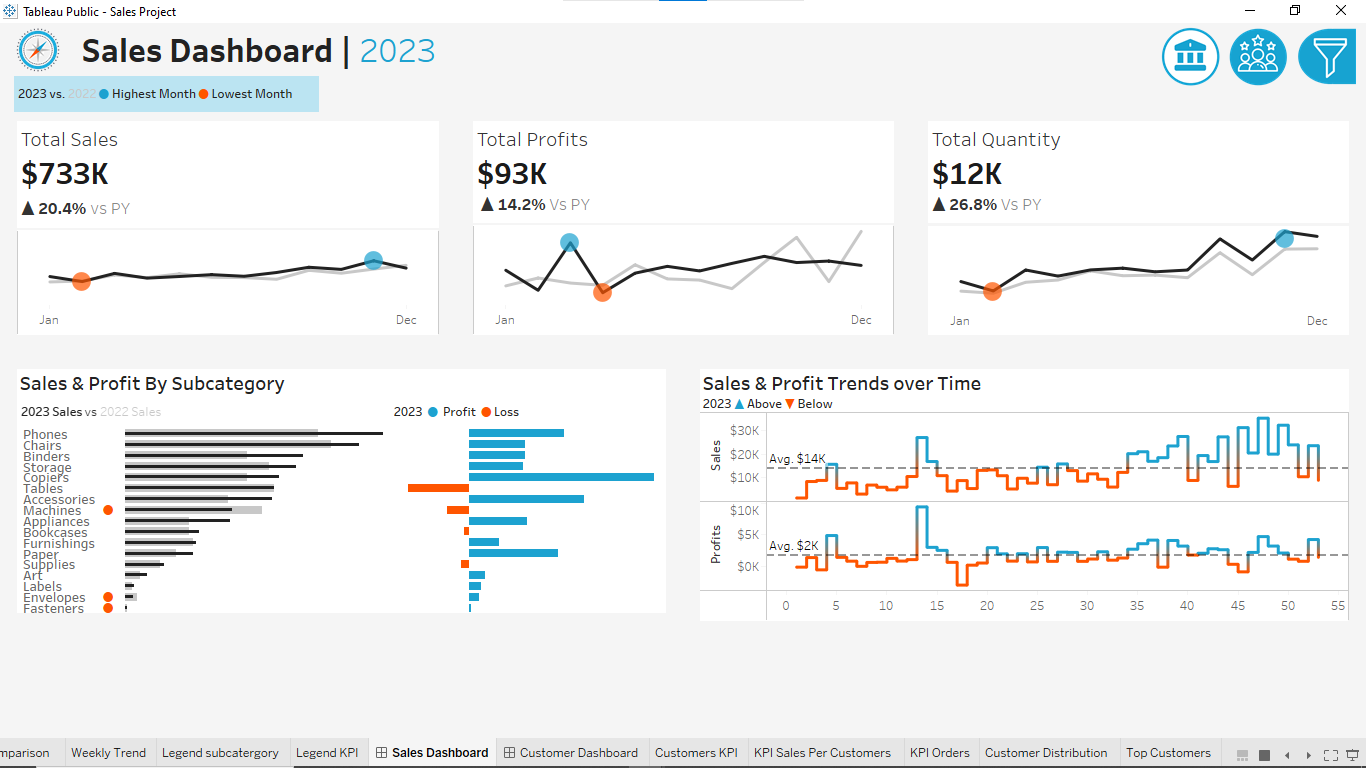

The dashboard page shown, as its layout file describes it:
{"tool":"tableau","page":{"name":"Sales Dashboard","canvas":[1000,1000],"units":"permille","ordinal":1},"visuals":[{"type":"image","param":"Image/Icon - Logo.png","box":[0,0,64.9,83.9]},{"type":"text","box":[64.9,0,642.4,83.9]},{"type":"dashboard-object","box":[847.1,0,51.1,93.4]},{"type":"dashboard-object","box":[898.2,0,52,93.4]},{"type":"dashboard-object","box":[950.1,0,52,93.4]},{"type":"blank","box":[831.3,13.6,161.4,96.2]},{"type":"worksheet","title":"Legend KPI","mark":"Automatic","box":[0,83.9,1000,60.1]},{"type":"text","box":[831.3,109.8,161.4,46.1]},{"type":"worksheet","title":"KPI Sales","mark":"Automatic","rows":["Calculation_406168391398117380"],"cols":["Order Date"],"box":[0,144,333.3,376.6]},{"type":"worksheet","title":"KPI Profits","mark":"Line","rows":["Calculation_406168391415488524"],"cols":["Order Date"],"box":[333.3,144,333.3,376.6]},{"type":"worksheet","title":"KPI Quantity","mark":"Automatic","rows":["Calculation_406168391428407315"],"cols":["Order Date"],"box":[666.7,144,333.3,376.6]},{"type":"parameter","param":"[Parameters].[Parameter 1]","box":[831.3,155.8,161.4,82.7]},{"type":"blank","box":[831.3,238.5,161.4,43.4]},{"type":"text","box":[831.3,281.9,161.4,39.3]},{"type":"filter","title":"KPI Profits","param":"[federated.0g9hs9g1u3s81j14i9sfp0thvgp6].[none:Category:nk]","box":[831.3,321.2,161.4,70.5]},{"type":"filter","title":"KPI Profits","param":"[federated.0g9hs9g1u3s81j14i9sfp0thvgp6].[none:Sub-Category:nk]","box":[831.3,391.6,161.4,70.5]},{"type":"text","box":[831.3,462.1,161.4,39.3]},{"type":"filter","title":"KPI Profits","param":"[federated.0g9hs9g1u3s81j14i9sfp0thvgp6].[none:Region:nk]","box":[831.3,501.4,161.4,70.5]},{"type":"text","box":[14.7,547.5,471,41.1]},{"type":"text","box":[515.1,547.5,470.1,41.1]},{"type":"filter","title":"KPI Profits","param":"[federated.0g9hs9g1u3s81j14i9sfp0thvgp6].[none:State:nk]","box":[831.3,571.8,161.4,70.5]},{"type":"worksheet","title":"Legend subcatergory","mark":"Automatic","box":[14.7,588.6,323.8,52.2]},{"type":"text","box":[338.5,588.6,147.2,52.2]},{"type":"text","box":[515.1,588.6,470.1,26.9]},{"type":"worksheet","title":"Weekly Trend","mark":"Automatic","rows":["Calculation_406168460112195584","Calculation_406168391409868809"],"cols":["Order Date"],"box":[515.1,615.5,470.1,330.7]},{"type":"worksheet","title":"Sub Category Comparison ","mark":"Bar","rows":["Sub-Category","Calculation_406168391442026518"],"cols":["CY Sales (copy)_406168460112687105","Calculation_406168460112195584","Calculation_406168391409868809"],"box":[14.7,640.8,471,292.7]},{"type":"filter","title":"KPI Profits","param":"[federated.0g9hs9g1u3s81j14i9sfp0thvgp6].[none:City:nk]","box":[831.3,642.3,161.4,70.5]}]}

Visuals, with their boxes on the dashboard's canvas, which has no fixed pixel size, in thousandths of its width and height (x1, y1, x2, y2). These are canvas units, not pixel positions in the 1366x768 screenshot, which may show the page scaled, cropped or inside an application window:
image: bbox(0, 0, 65, 84)
text: bbox(65, 0, 707, 84)
dashboard-object: bbox(847, 0, 898, 93)
dashboard-object: bbox(898, 0, 950, 93)
dashboard-object: bbox(950, 0, 1002, 93)
blank: bbox(831, 14, 993, 110)
"Legend KPI" worksheet: bbox(0, 84, 1000, 144)
text: bbox(831, 110, 993, 156)
"KPI Sales" worksheet: bbox(0, 144, 333, 521)
"KPI Profits" worksheet (Line marks): bbox(333, 144, 667, 521)
"KPI Quantity" worksheet: bbox(667, 144, 1000, 521)
parameter: bbox(831, 156, 993, 238)
blank: bbox(831, 238, 993, 282)
text: bbox(831, 282, 993, 321)
"KPI Profits" filter: bbox(831, 321, 993, 392)
"KPI Profits" filter: bbox(831, 392, 993, 462)
text: bbox(831, 462, 993, 501)
"KPI Profits" filter: bbox(831, 501, 993, 572)
text: bbox(15, 548, 486, 589)
text: bbox(515, 548, 985, 589)
"KPI Profits" filter: bbox(831, 572, 993, 642)
"Legend subcatergory" worksheet: bbox(15, 589, 338, 641)
text: bbox(338, 589, 486, 641)
text: bbox(515, 589, 985, 616)
"Weekly Trend" worksheet: bbox(515, 616, 985, 946)
"Sub Category Comparison " worksheet (Bar marks): bbox(15, 641, 486, 934)
"KPI Profits" filter: bbox(831, 642, 993, 713)
